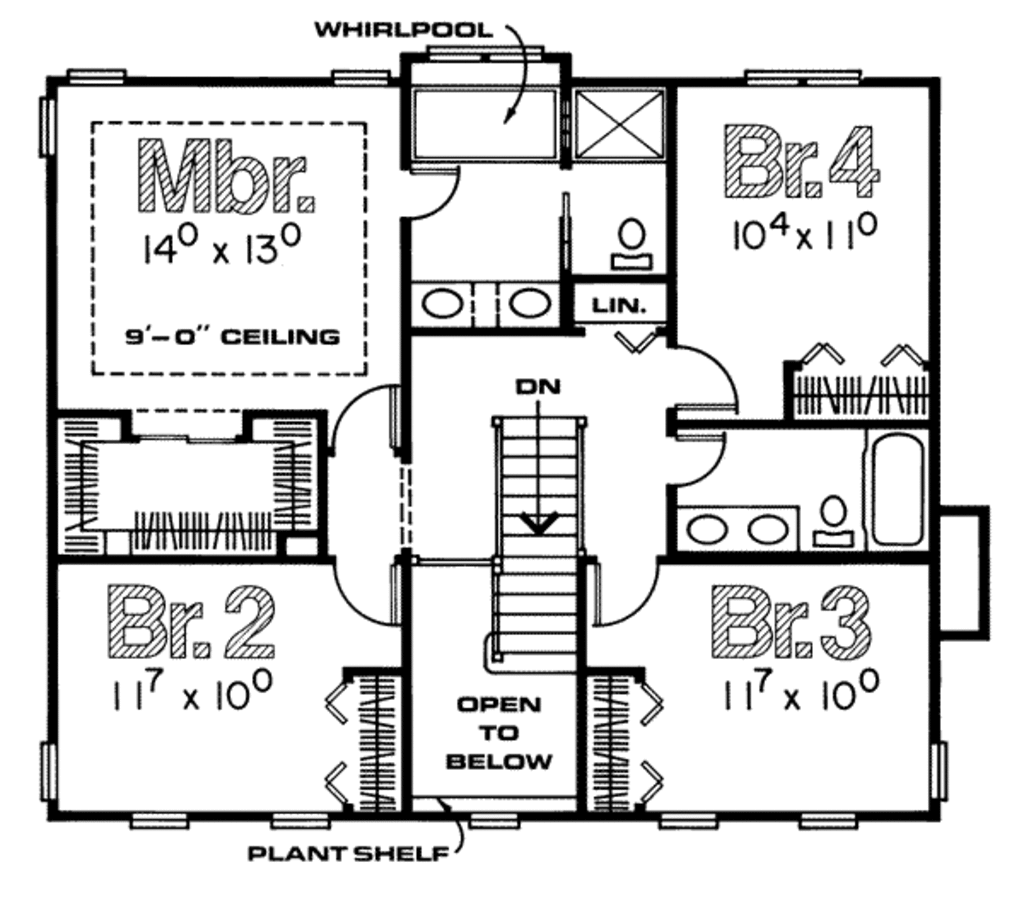door: (327, 552, 401, 629), (670, 344, 744, 415), (330, 383, 398, 458), (592, 560, 658, 627), (397, 165, 463, 223), (663, 433, 726, 492)
large_sink: (597, 212, 661, 280), (808, 490, 862, 552)
small_sink: (408, 279, 565, 333), (675, 503, 801, 558)
stairs: (480, 413, 578, 674)
tub: (411, 81, 558, 170), (859, 429, 931, 554)
window: (427, 44, 554, 69), (737, 68, 862, 93), (330, 62, 390, 93), (129, 808, 190, 837), (656, 806, 722, 832), (37, 740, 64, 801), (62, 64, 130, 88), (929, 739, 953, 804), (793, 810, 860, 833), (265, 812, 333, 834), (462, 810, 526, 833), (38, 93, 57, 161)
